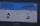5: (3, 11, 13, 22)
ط: (23, 12, 32, 21)
